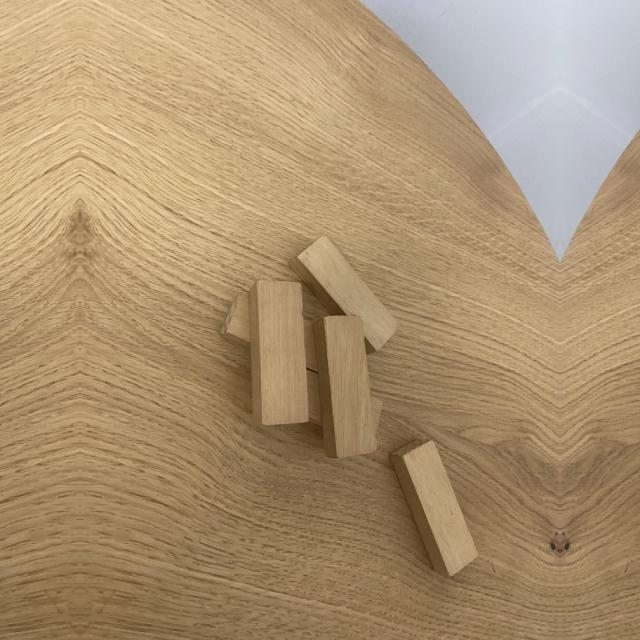jenga: (220, 280, 378, 460), (288, 234, 401, 355), (388, 437, 479, 577), (307, 316, 383, 460), (313, 315, 377, 459), (248, 280, 309, 427)
